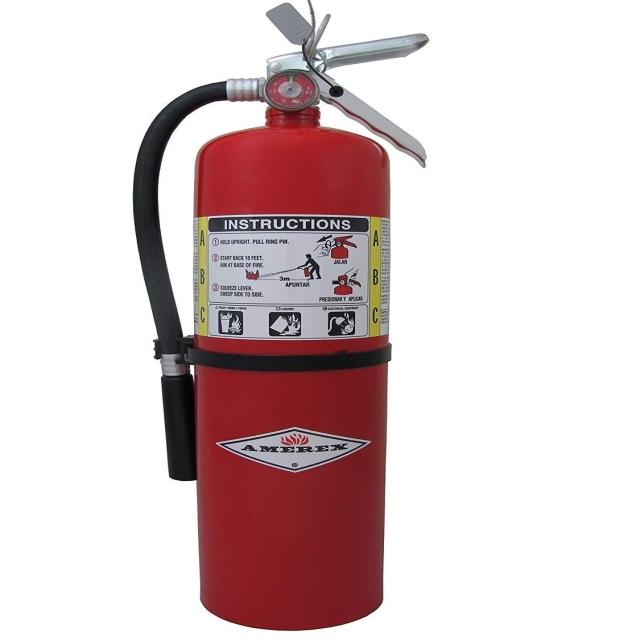fire_extinguisher: (124, 0, 437, 634)
